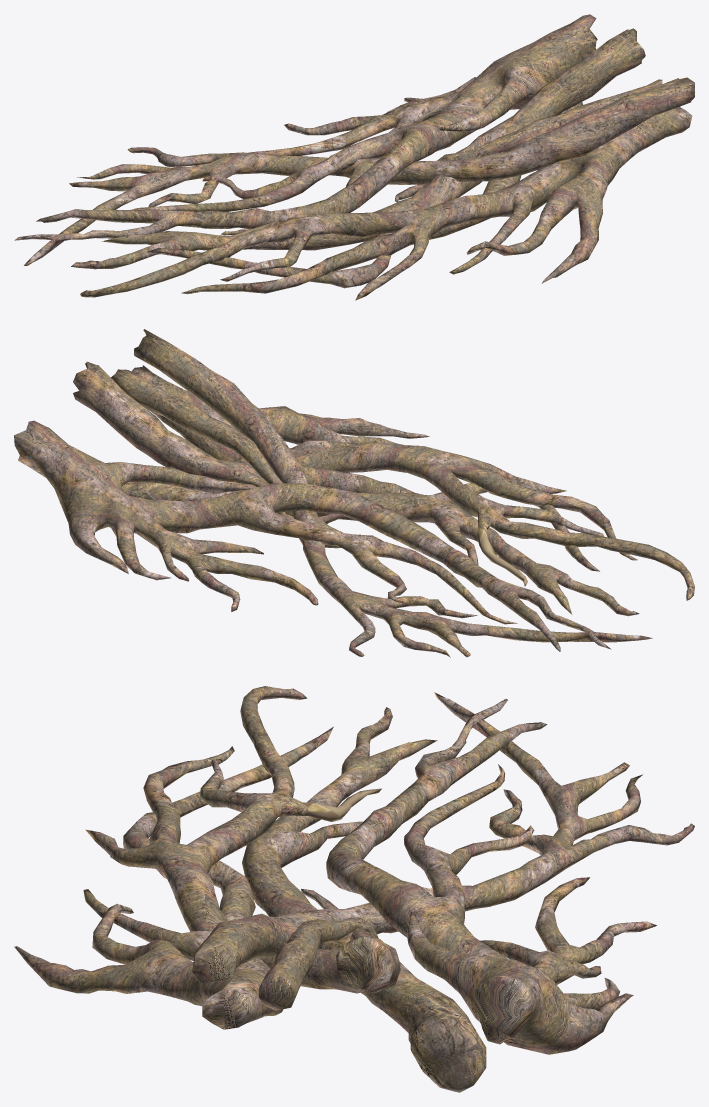
File: SM_HollowInteriorRoots_03.fbx
3 views of the same model, one above another, from view 1: azimuth 30°, elevation 25°; view 2: azimuth 150°, elevation 25°; view 3: azimuth 270°, elevation 25° (orthographic). The views are drawn at different scales.
Visible parts, largest first — view 1: SM_HollowInteriorRoots_03; view 2: SM_HollowInteriorRoots_03; view 3: SM_HollowInteriorRoots_03.
Boxes of the visible parts, bbox=[...] form: SM_HollowInteriorRoots_03: bbox=[14, 14, 694, 300]; SM_HollowInteriorRoots_03: bbox=[14, 329, 694, 657]; SM_HollowInteriorRoots_03: bbox=[14, 686, 694, 1092].
Size of the model in its own units: 1209 by 837 by 244.
1 material, 1 textured.
